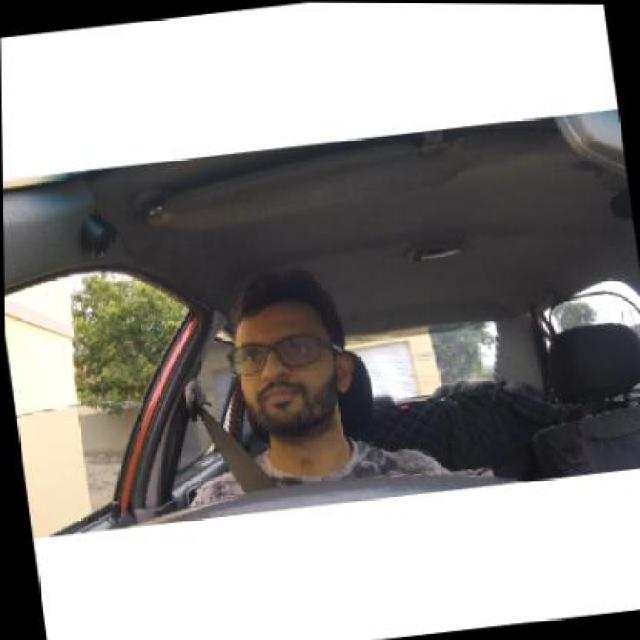person: (234, 294, 356, 442)
